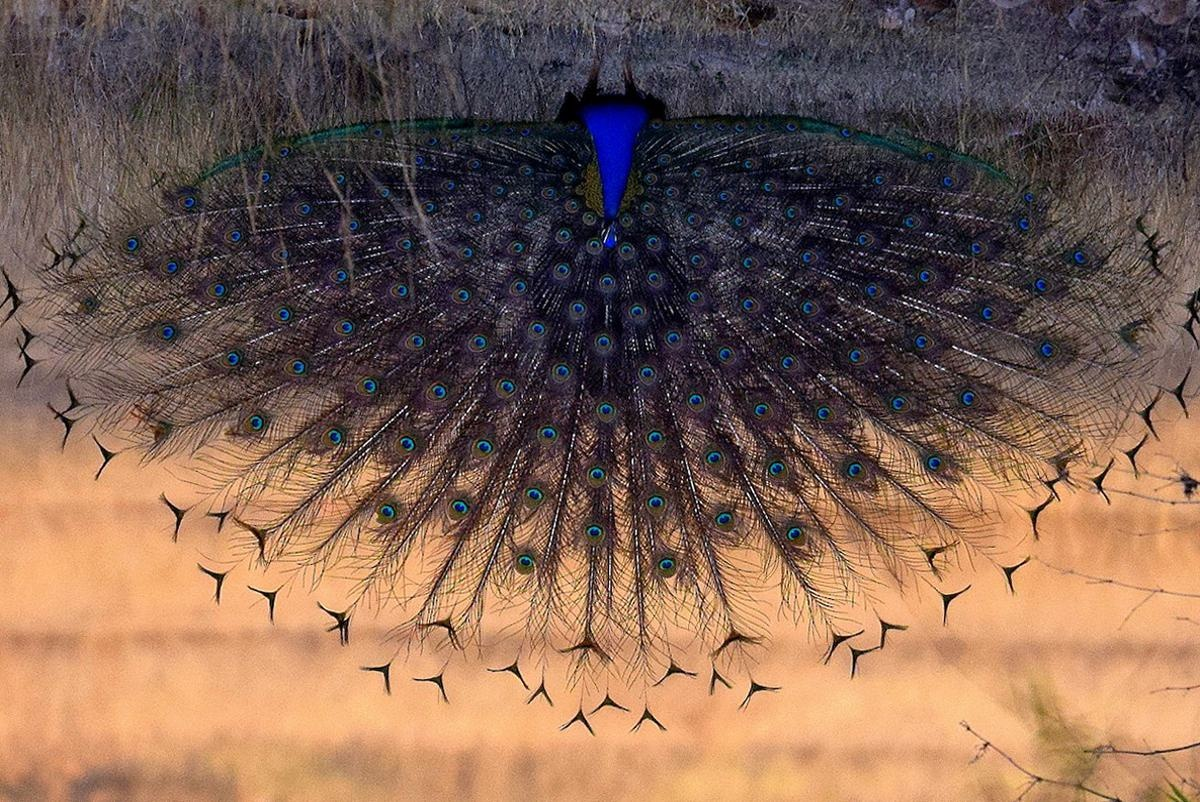peacock: (101, 89, 1139, 657)
